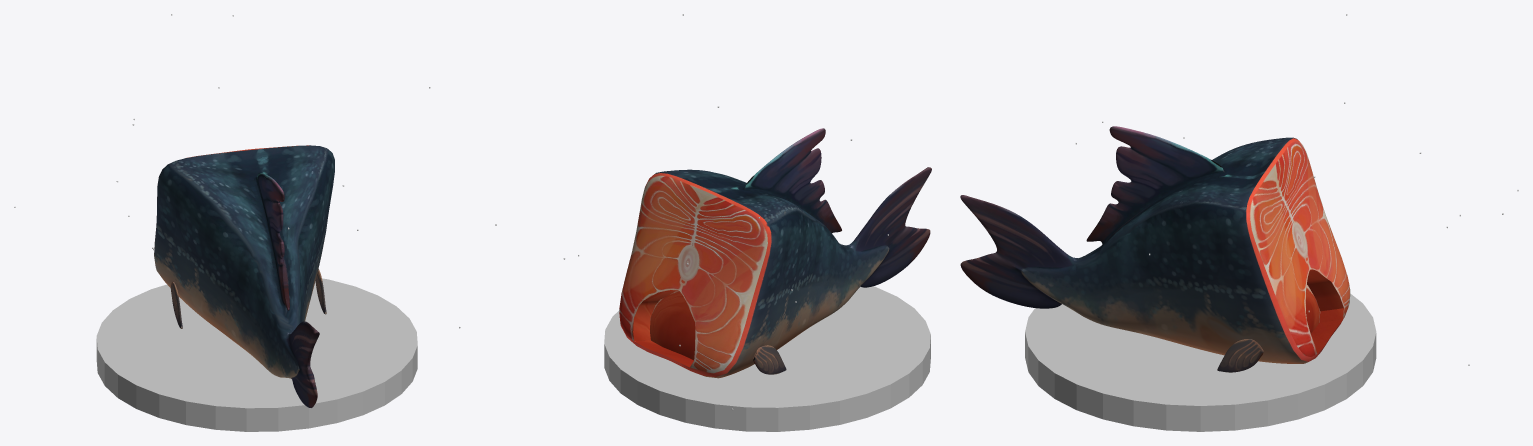
File: fish.fbx
3 renders of one model, left to right at view 1: azimuth 30°, elevation 25°; view 2: azimuth 150°, elevation 25°; view 3: azimuth 270°, elevation 25°, orthographic. The views are drawn at different scales.
Parts seen in each view (by area): view 1: Cube.018; view 2: Cube.018; view 3: Cube.018.
Boxes of the visible parts, x1,y1,x2,y2 form: Cube.018: (14,14,430,431); Cube.018: (459,14,931,431); Cube.018: (960,14,1518,431).
Size of the model in its own units: 161 by 147 by 223.
